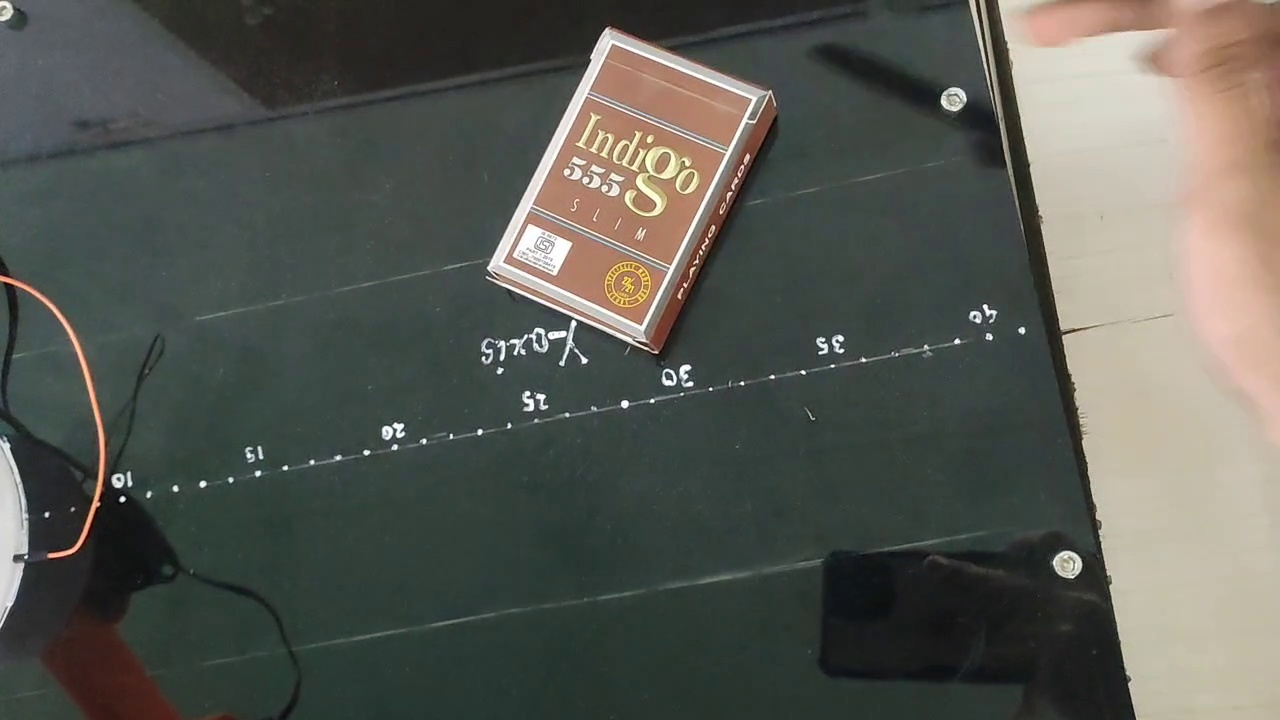BEX: (501, 44, 750, 332)
